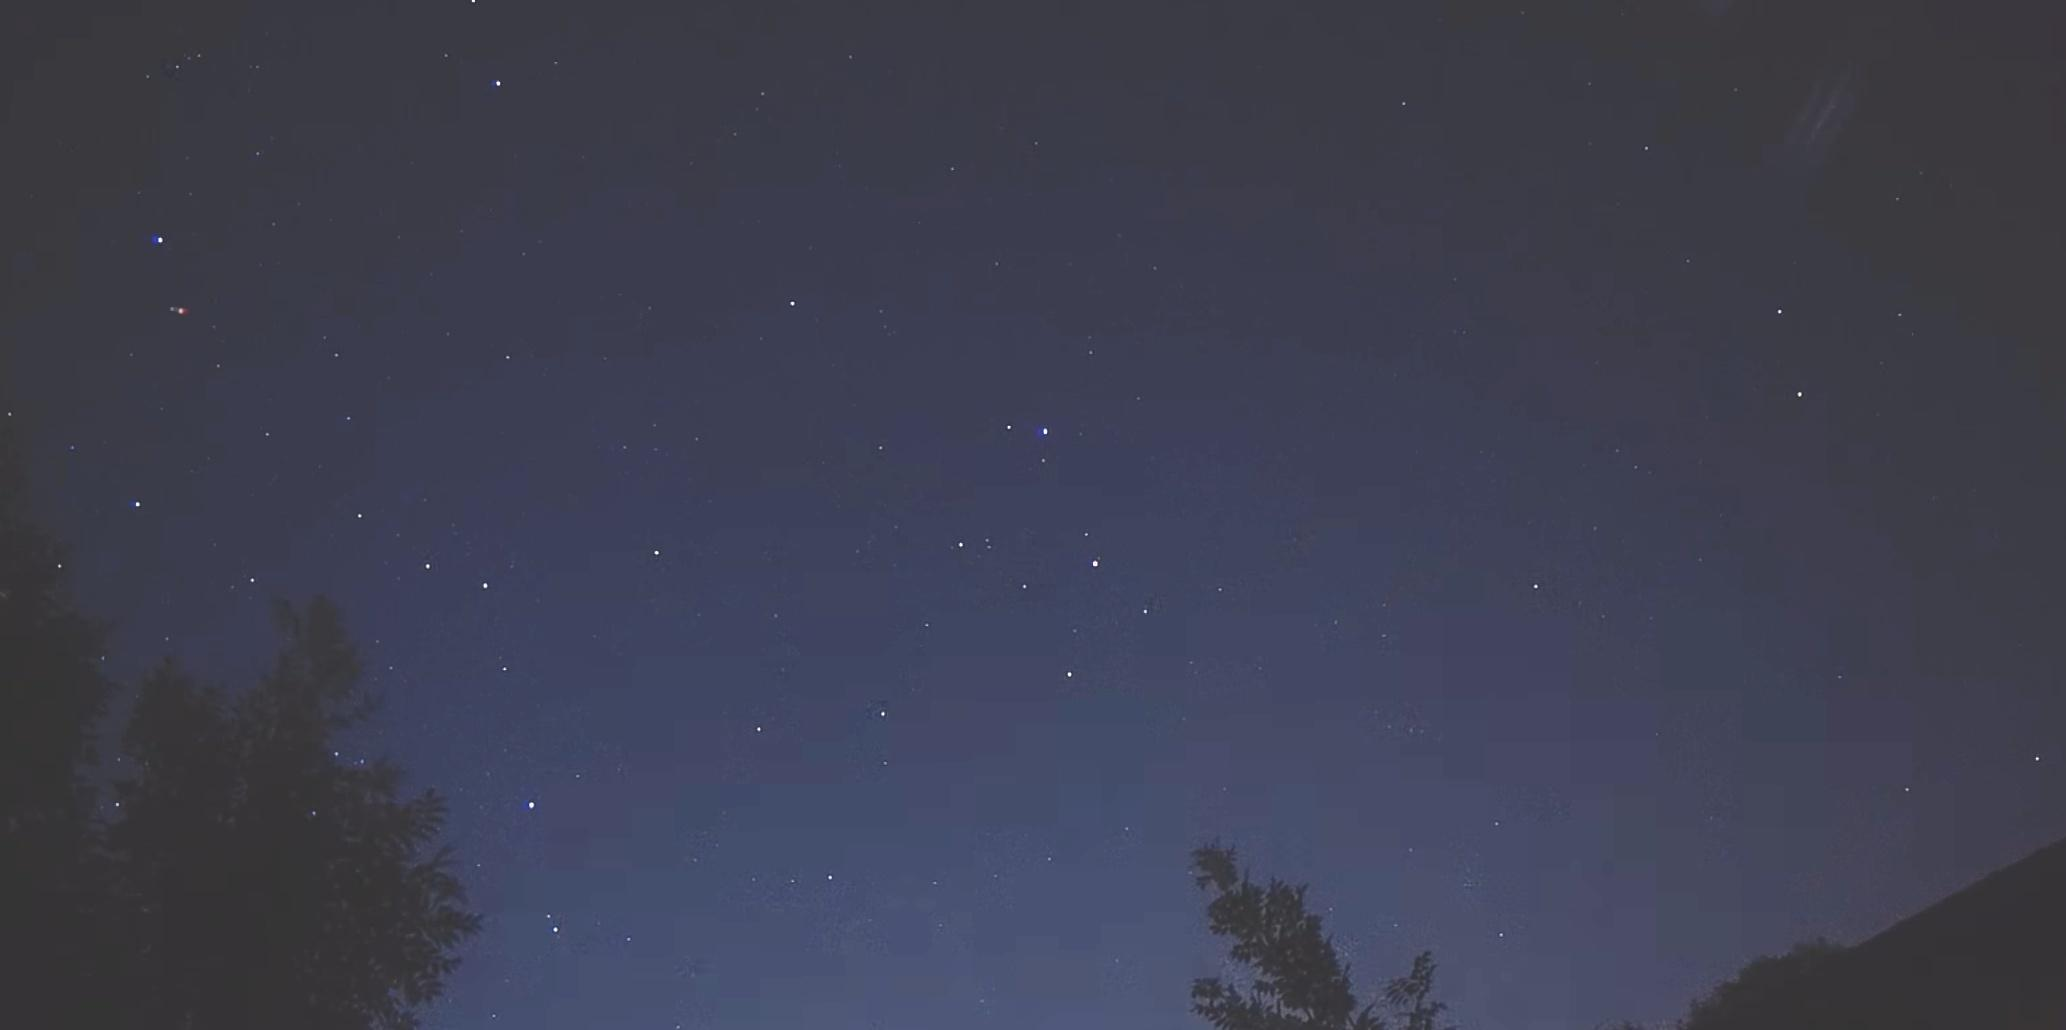Plane: (148, 292, 206, 327)
